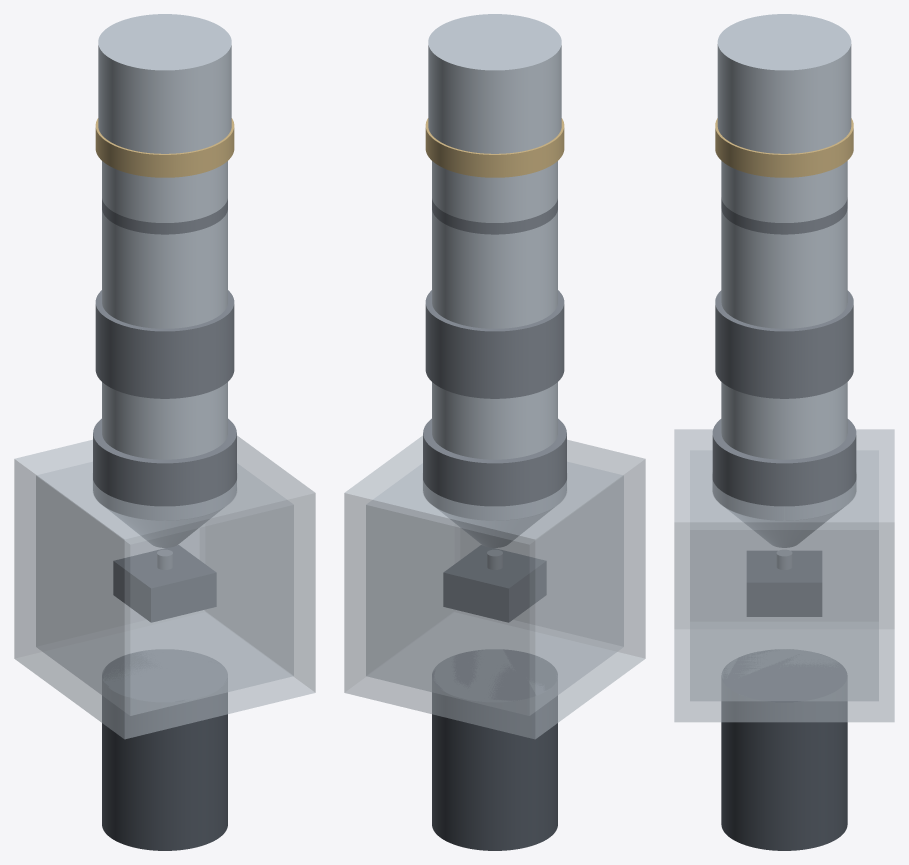
The model's file is layout.glb.
The picture shows the model from 3 angles, left to right: view 1: azimuth 30°, elevation 25°; view 2: azimuth 150°, elevation 25°; view 3: azimuth 270°, elevation 25°; orthographic projection.
Parts seen in each view (by area): view 1: chamber-placeholder, turbo-pump-placeholder, grounded-can, spacer-condenser-to-gun, spacer-objective-to-condenser, condenser-shell-ring, objective-shell-ring, stage-placeholder, gun-housing, peek-insulator, objective-lower-pole, objective-upper-pole (+3 smaller); view 2: chamber-placeholder, turbo-pump-placeholder, grounded-can, spacer-condenser-to-gun, spacer-objective-to-condenser, condenser-shell-ring, objective-shell-ring, stage-placeholder, gun-housing, peek-insulator, objective-lower-pole, objective-upper-pole (+3 smaller); view 3: chamber-placeholder, turbo-pump-placeholder, grounded-can, spacer-condenser-to-gun, spacer-objective-to-condenser, condenser-shell-ring, objective-shell-ring, gun-housing, stage-placeholder, peek-insulator, objective-lower-pole, objective-upper-pole (+3 smaller).
Boxes of the visible parts, x1,y1,x2,y2 form: chamber-placeholder: (14, 435, 315, 739); turbo-pump-placeholder: (102, 650, 227, 850); grounded-can: (98, 14, 231, 153); spacer-condenser-to-gun: (102, 210, 227, 328); spacer-objective-to-condenser: (102, 382, 227, 459); condenser-shell-ring: (95, 313, 234, 389); objective-shell-ring: (93, 443, 236, 513); stage-placeholder: (113, 545, 216, 622); gun-housing: (102, 161, 227, 222); peek-insulator: (95, 118, 234, 177); objective-lower-pole: (93, 486, 236, 547); objective-upper-pole: (93, 418, 236, 472); chamber-placeholder: (344, 435, 645, 739); turbo-pump-placeholder: (432, 649, 557, 850); grounded-can: (428, 14, 561, 153); spacer-condenser-to-gun: (432, 210, 557, 328); spacer-objective-to-condenser: (432, 382, 557, 459); condenser-shell-ring: (425, 313, 564, 389); objective-shell-ring: (423, 443, 566, 513); stage-placeholder: (443, 545, 546, 622); gun-housing: (432, 161, 557, 222); peek-insulator: (425, 118, 564, 177); objective-lower-pole: (423, 486, 566, 547); objective-upper-pole: (423, 418, 566, 472); chamber-placeholder: (674, 429, 894, 722); turbo-pump-placeholder: (721, 649, 847, 850); grounded-can: (717, 14, 851, 153); spacer-condenser-to-gun: (721, 209, 847, 328); spacer-objective-to-condenser: (721, 382, 847, 459); condenser-shell-ring: (715, 314, 853, 389); objective-shell-ring: (712, 444, 856, 513); gun-housing: (721, 161, 847, 222); stage-placeholder: (747, 551, 821, 616); peek-insulator: (715, 118, 853, 177); objective-lower-pole: (713, 488, 855, 547); objective-upper-pole: (712, 419, 856, 472).
Size of the model in its own units: 175 by 685 by 175.
